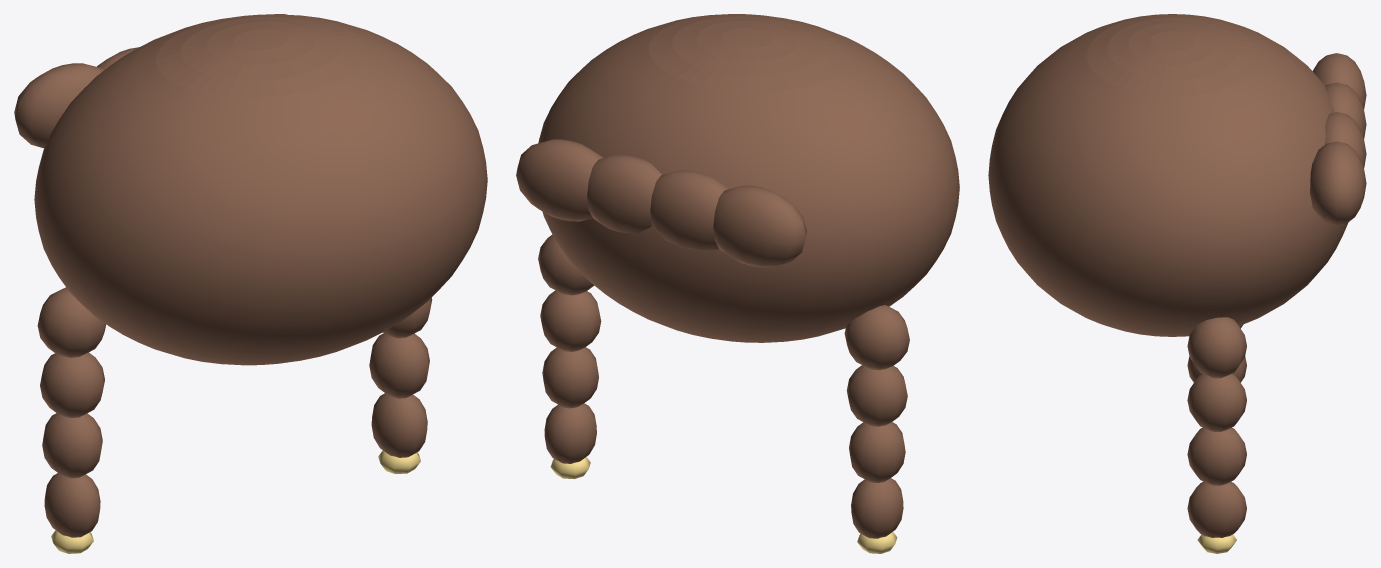
Rendered from Hair_Braids.fbx.
3 renders of one model, left to right at view 1: azimuth 30°, elevation 25°; view 2: azimuth 150°, elevation 25°; view 3: azimuth 270°, elevation 25°, orthographic. The views are drawn at different scales.
Parts seen in each view (by area): view 1: Hair, Hair_Bang.003, Side_Braid.005, Side_Braid.004, Side_Braid.002, Side_Braid.006, Side_Braid.007, Side_Braid.003, Side_Braid.001, Hair_Tie.001, Hair_Tie; view 2: Hair, Hair_Bang.003, Hair_Bang, Hair_Bang.002, Hair_Bang.001, Side_Braid.004, Side_Braid.001, Side_Braid.005, Side_Braid.002, Side_Braid.006, Side_Braid.007, Side_Braid.003 (+3 smaller); view 3: Hair, Hair_Bang, Side_Braid, Side_Braid.001, Side_Braid.002, Side_Braid.003, Hair_Bang.003, Hair_Bang.001, Hair_Bang.002, Hair_Tie.
Part boxes in pixels (x1=…): Hair: x1=34, y1=14, x2=487, y2=365; Hair_Bang.003: x1=14, y1=63, x2=103, y2=148; Side_Braid.005: x1=40, y1=352, x2=104, y2=418; Side_Braid.004: x1=37, y1=287, x2=105, y2=357; Side_Braid.002: x1=369, y1=333, x2=429, y2=398; Side_Braid.006: x1=42, y1=413, x2=102, y2=478; Side_Braid.007: x1=44, y1=473, x2=100, y2=537; Side_Braid.003: x1=371, y1=393, x2=427, y2=457; Side_Braid.001: x1=383, y1=297, x2=432, y2=338; Hair_Tie.001: x1=51, y1=530, x2=93, y2=553; Hair_Tie: x1=378, y1=450, x2=420, y2=473; Hair: x1=538, y1=14, x2=959, y2=342; Hair_Bang.003: x1=713, y1=185, x2=806, y2=267; Hair_Bang: x1=516, y1=139, x2=603, y2=221; Hair_Bang.002: x1=650, y1=170, x2=729, y2=250; Hair_Bang.001: x1=587, y1=154, x2=661, y2=233; Side_Braid.004: x1=844, y1=305, x2=909, y2=370; Side_Braid.001: x1=540, y1=290, x2=601, y2=351; Side_Braid.005: x1=846, y1=365, x2=907, y2=426; Side_Braid.002: x1=542, y1=347, x2=598, y2=408; Side_Braid.006: x1=849, y1=422, x2=905, y2=483; Side_Braid.007: x1=851, y1=478, x2=903, y2=538; Side_Braid.003: x1=544, y1=403, x2=596, y2=463; Hair: x1=988, y1=14, x2=1348, y2=336; Hair_Bang: x1=1310, y1=141, x2=1366, y2=225; Side_Braid: x1=1187, y1=317, x2=1246, y2=378; Side_Braid.001: x1=1187, y1=373, x2=1246, y2=431; Side_Braid.002: x1=1187, y1=427, x2=1246, y2=485; Side_Braid.003: x1=1187, y1=481, x2=1246, y2=537; Hair_Bang.003: x1=1312, y1=53, x2=1366, y2=109; Hair_Bang.001: x1=1325, y1=112, x2=1366, y2=167; Hair_Bang.002: x1=1325, y1=82, x2=1366, y2=138; Hair_Tie: x1=1197, y1=534, x2=1236, y2=553.
Size of the model in its own units: 84 by 97.5 by 76.
